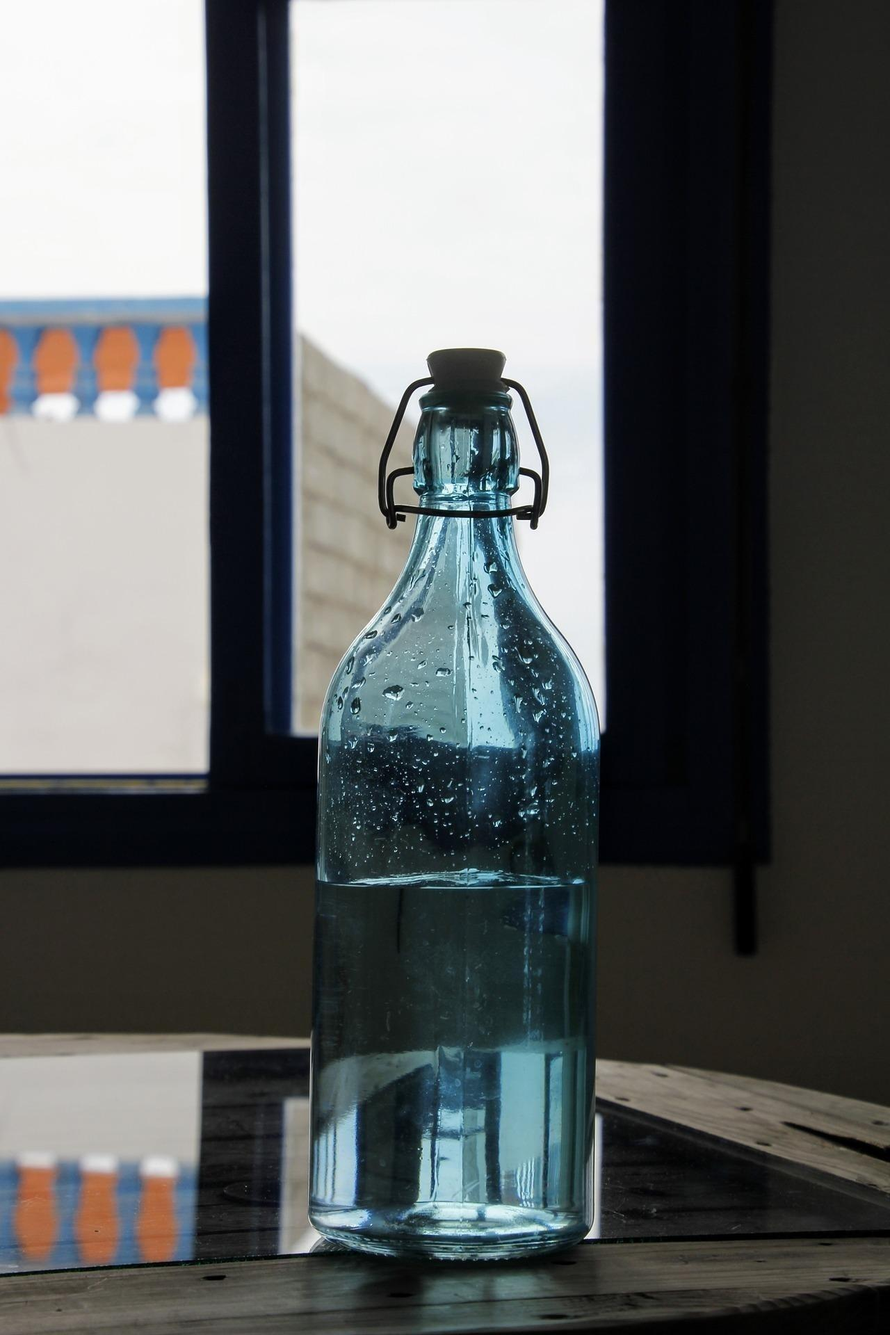bottle-glass: (300, 334, 613, 1275)
